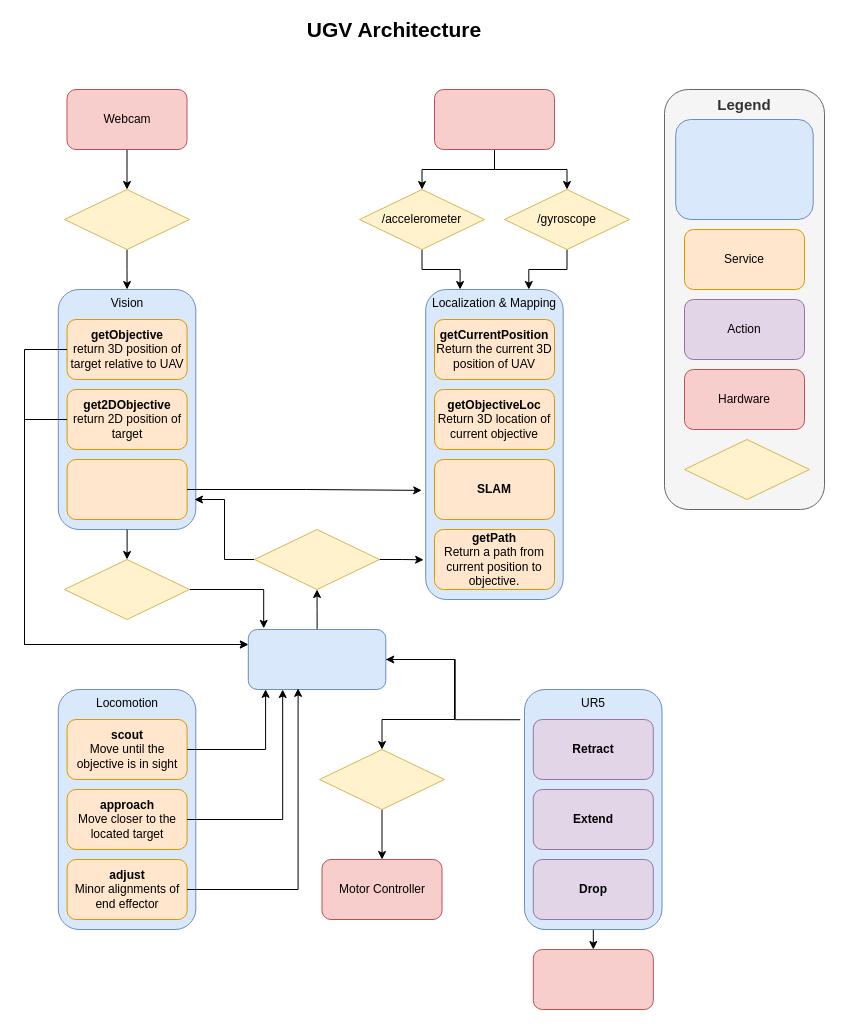
Some shapes in this 842 by 1027 pixel diagram are drawn without their labels. Here are the shapes that lost their labels. From the top down, the centre of each, then its label:
At [494,119]: "IMU".
At [744,169]: "Package".
At [127,219]: "/webColour".
At [126,489]: "getPointCloud".
At [747,469]: "/topic".
At [317,559]: "/objective".
At [127,589]: "/targetIdentified".
At [316,659]: "Master Node".
At [381,779]: "/motionCommand".
At [592,979]: "End Effector".
